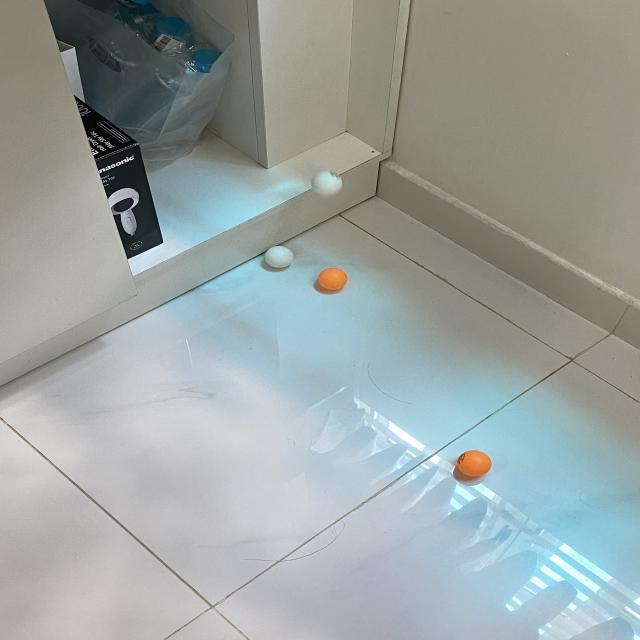ping-pong-ball: (458, 450, 491, 478), (311, 170, 343, 197), (318, 266, 349, 292), (266, 246, 294, 268)
